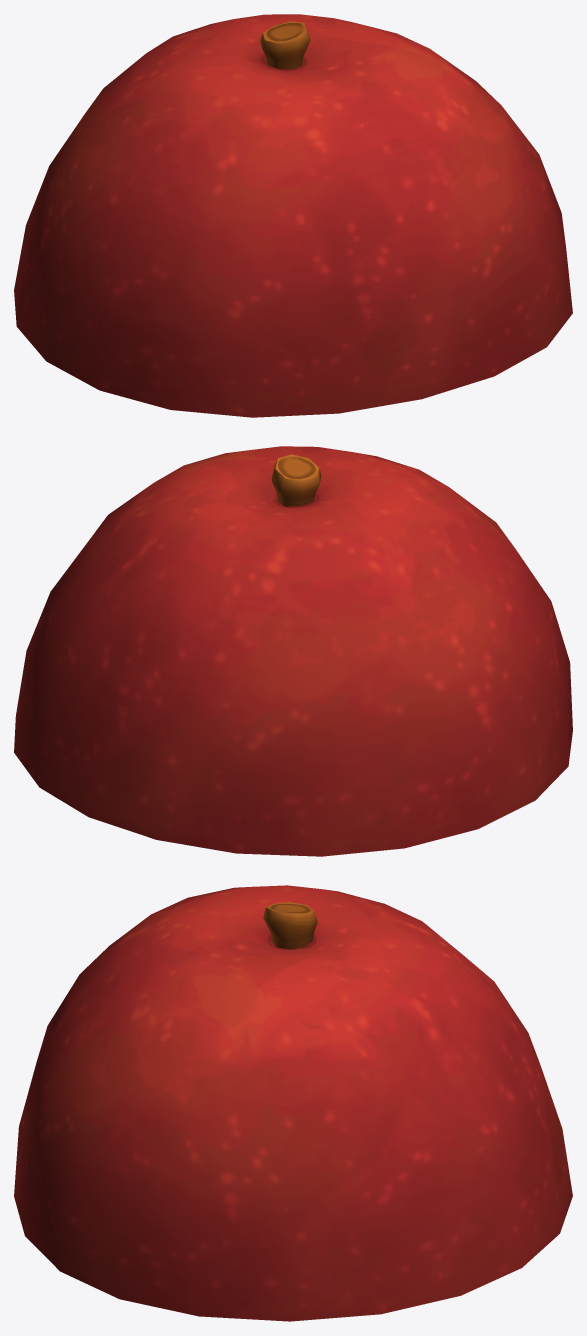
The model's file is SM_PassionFruitRedCutTop.fbx.
3 renders of one model, top to bottom at view 1: azimuth 30°, elevation 25°; view 2: azimuth 150°, elevation 25°; view 3: azimuth 270°, elevation 25°, orthographic. The views are drawn at different scales.
Parts seen in each view (by area): view 1: SM_PassionFruitRedCutTop; view 2: SM_PassionFruitRedCutTop; view 3: SM_PassionFruitRedCutTop.
Part boxes in pixels (left/top/right/bottom): SM_PassionFruitRedCutTop: left=14, top=14, right=572, bottom=417; SM_PassionFruitRedCutTop: left=14, top=446, right=572, bottom=856; SM_PassionFruitRedCutTop: left=14, top=885, right=572, bottom=1321.
Bounding box in the file's own units: 10.5 × 5.69 × 9.94.
